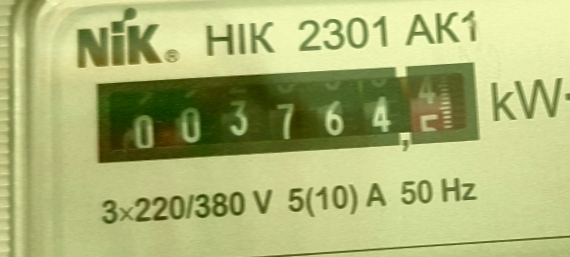0: (178, 104, 203, 145), (131, 111, 157, 150)
3: (226, 97, 251, 138)
4: (371, 94, 392, 134), (416, 73, 439, 106)
5: (418, 111, 441, 134)
6: (323, 98, 346, 138)
7: (274, 99, 300, 142)
screen: (79, 44, 496, 179)
